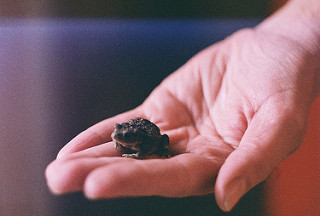palm: (162, 56, 292, 174)
